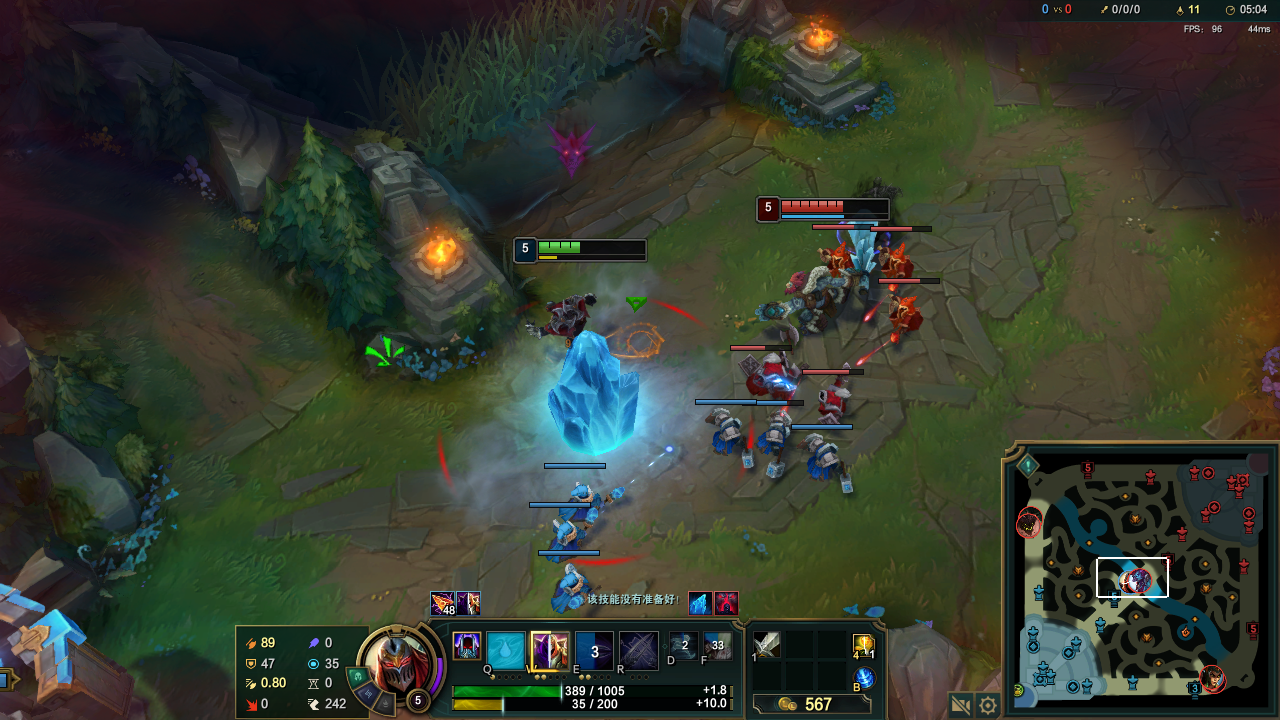DFYX: (783, 198, 889, 216)
